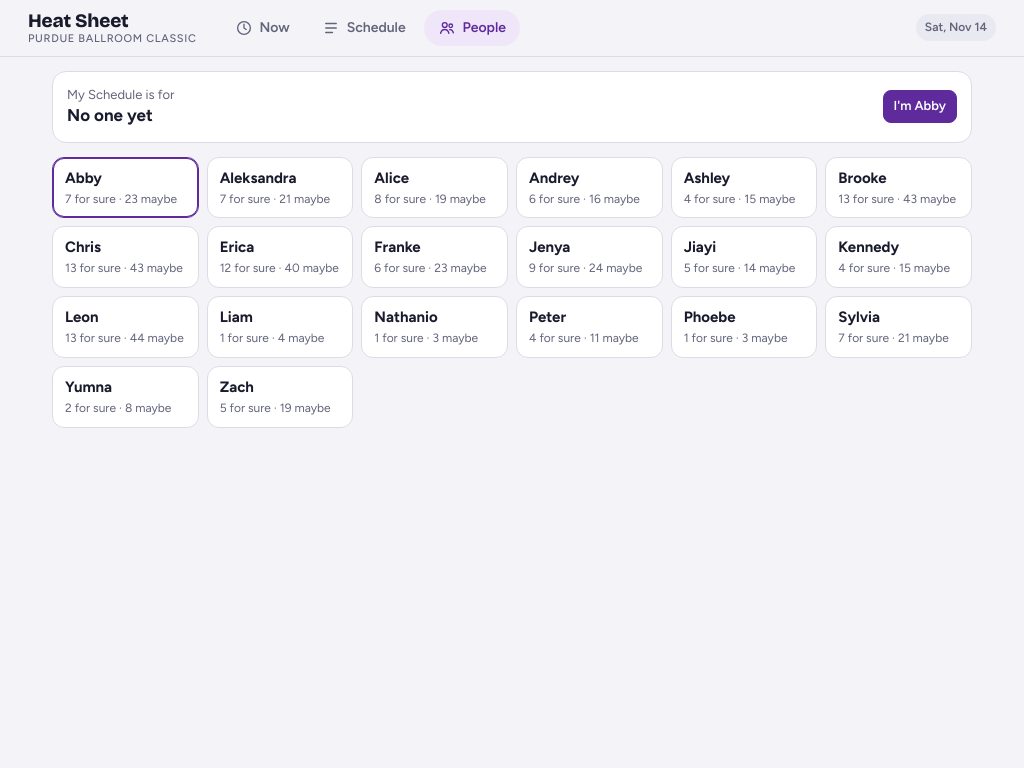
Scenario: People tab › lists everyone’s heat counts, and makes one this device’s schedule
Step 1. Click the button "Brooke 13 for sure · 43 maybe" → (899, 188), box [825, 157, 972, 218]
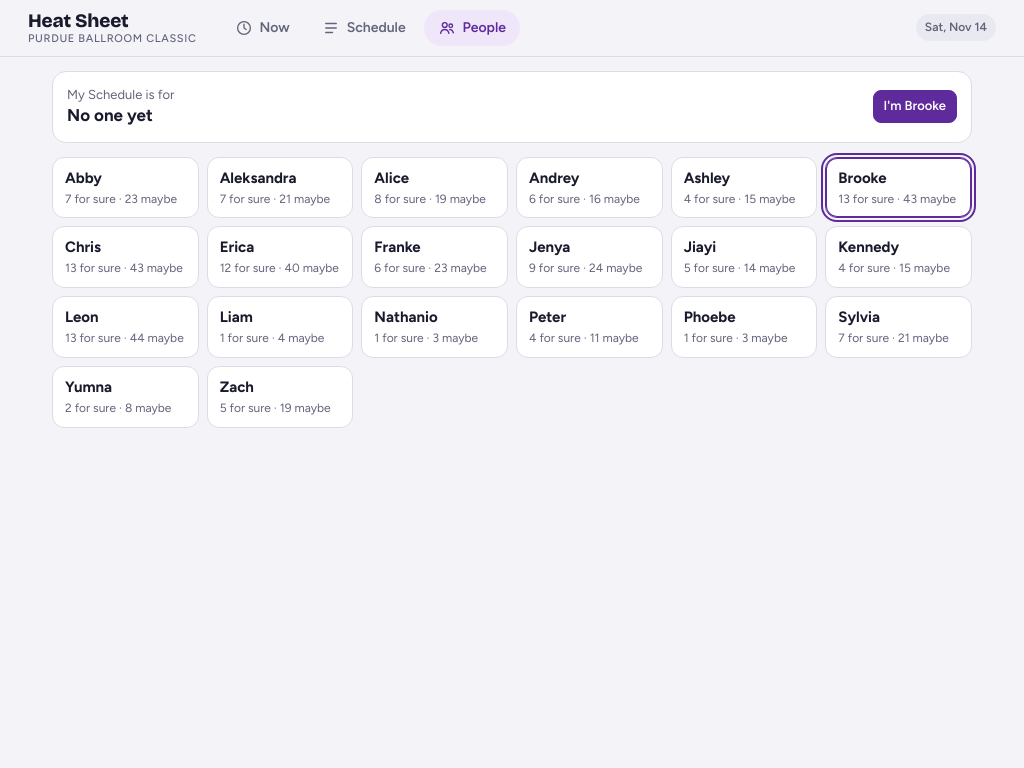
Step 2. Click the button "I'm Brooke" → (915, 107), box [873, 90, 957, 123]
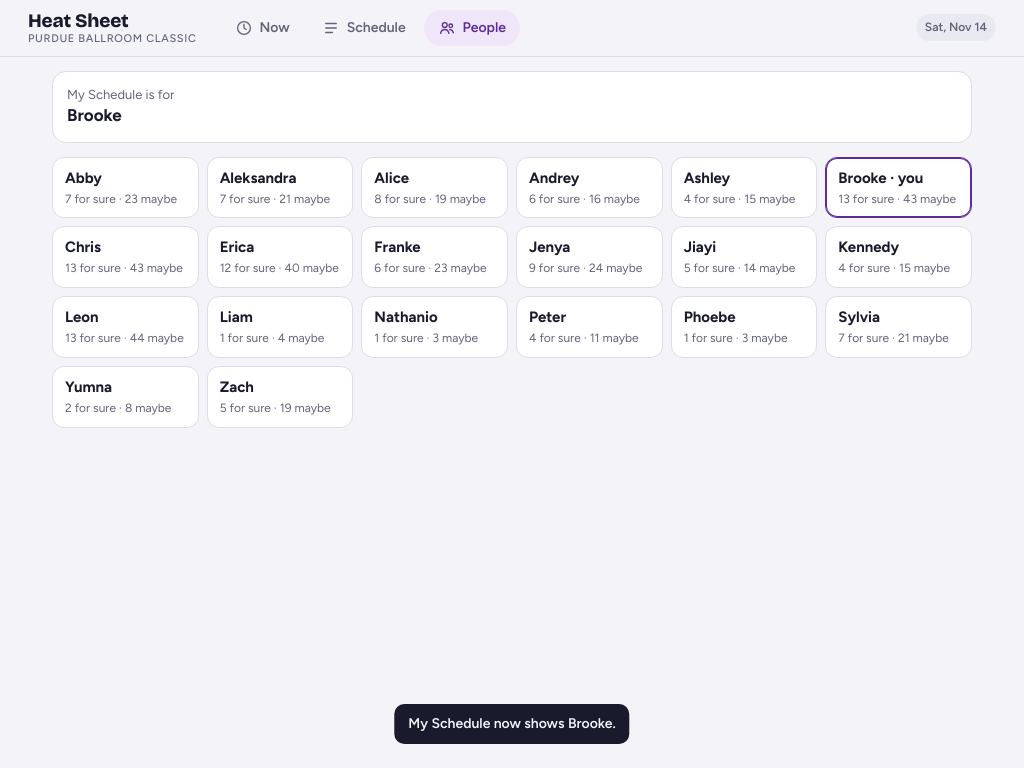
Expected: the text "Brooke" is shown, [67, 105, 122, 125]
Expected: the message reads "My Schedule now shows Brooke.", [408, 715, 616, 732]
